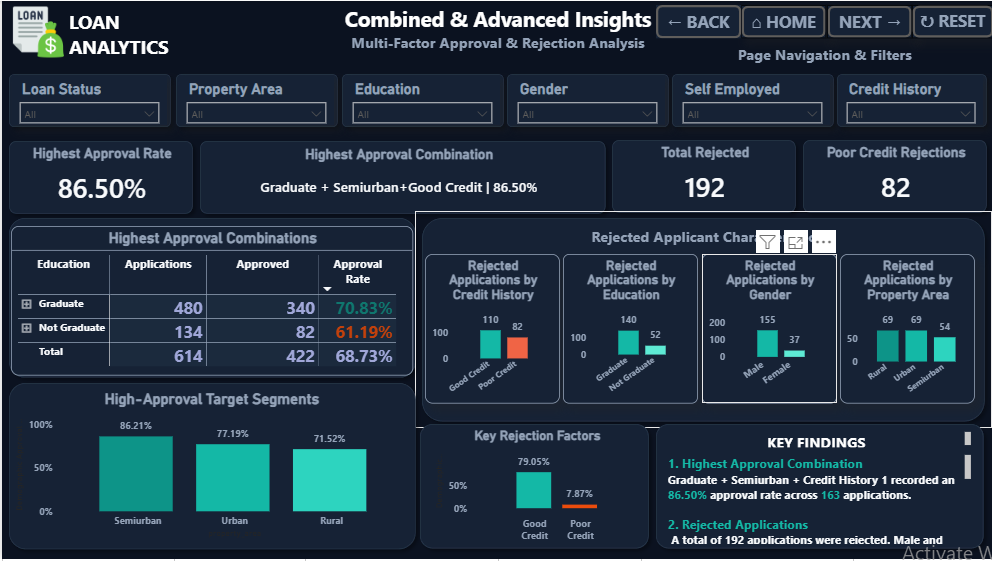

This screenshot's page, from the dashboard's own definition file:
{"tool":"powerbi","page":{"name":"Combined & Advanced Insights","canvas":[1280,720],"ordinal":5},"visuals":[{"type":"textbox","box":[0,0,1279.8,79.4],"z":0},{"type":"group","id":"g1","title":"Group 3","box":[0,85,226.8,86.5],"z":0,"group":"g7"},{"type":"group","id":"g2","title":"Group 7","box":[0.1,171.5,255.1,112],"z":0,"group":"g12"},{"type":"shape","box":[0,270.7,542.8,223.9],"z":0,"group":"g15"},{"type":"group","id":"g3","title":"Group 6","box":[532.9,270.7,744.1,280.6],"z":0,"group":"g17"},{"type":"shape","box":[532.9,270.7,744.1,280.6],"z":0,"group":"g3"},{"type":"shape","box":[0,483.3,542.8,232.4],"z":0,"group":"g18"},{"type":"shape","box":[530.1,537.2,313.2,178.6],"z":0,"group":"g19"},{"type":"shape","box":[834.8,537.2,440.8,178.6],"z":0,"group":"g20"},{"type":"group","id":"g4","title":"Group 6","box":[12.8,0,323.1,96.4],"z":1000},{"type":"group","id":"g5","title":"Group 3","box":[215.4,85,226.8,86.5],"z":1000,"group":"g7"},{"type":"group","id":"g6","title":"Group 1","box":[246.2,171.5,541.4,112],"z":1000,"group":"g12"},{"type":"textbox","box":[555.7,286.7,705.8,35.4],"z":1000,"group":"g17"},{"type":"pivotTable","title":"Highest Approval Combinations","fields":{"Values":["loan_data.total_applications","loan_data.approved_applicants","loan_data.approval_rate"],"Rows":["loan_data.education","loan_data.property_area","loan_data.credit_history"]},"box":[11.3,290.6,518.7,193],"z":1000,"group":"g15"},{"type":"clusteredColumnChart","title":"High-Approval Target Segments","fields":{"Category":["loan_data.property_area"],"Y":["loan_data.Demographic Approval Rate"]},"box":[11.3,501.8,518.7,195.5],"z":1000,"group":"g18"},{"type":"group","id":"g7","title":"Group 4","box":[0,85,1279.8,86.5],"z":2000},{"type":"group","id":"g8","title":"Group 3","box":[429.4,85,226.8,86.5],"z":2000,"group":"g7"},{"type":"group","id":"g9","title":"Group 2","box":[778.7,170.1,255.1,112],"z":2000,"group":"g12"},{"type":"group","id":"g10","title":"Group 10","box":[545.8,326.4,710.1,192.8],"z":2000,"group":"g17"},{"type":"group","id":"g11","title":"Group 3","box":[642,85,226.8,86.5],"z":3000,"group":"g7"},{"type":"group","id":"g12","title":"Group 8","box":[0.1,170.1,1279.8,113.4],"z":3000},{"type":"group","id":"g13","title":"Group 5","box":[1024.8,170.1,255.1,112],"z":3000,"group":"g12"},{"type":"shape","box":[0,85,226.8,86.5],"z":4000,"group":"g1"},{"type":"shape","box":[215.4,85,226.8,86.5],"z":4000,"group":"g5"},{"type":"shape","box":[429.4,85,226.8,86.5],"z":4000,"group":"g8"},{"type":"shape","box":[642,85,226.8,86.5],"z":4000,"group":"g11"},{"type":"group","id":"g14","title":"Group 3","box":[856.1,85,226.8,86.5],"z":4000,"group":"g7"},{"type":"shape","box":[856.1,85,226.8,86.5],"z":4000,"group":"g14"},{"type":"shape","box":[1068.7,85,211.2,86.5],"z":4000,"group":"g16"},{"type":"shape","box":[778.7,170.1,255.1,112],"z":4000,"group":"g9"},{"type":"shape","box":[1024.8,170.1,255.1,112],"z":4000,"group":"g13"},{"type":"shape","box":[0.1,171.5,255.1,112],"z":4000,"group":"g2"},{"type":"shape","box":[246.2,171.5,541.4,112],"z":4000,"group":"g6"},{"type":"group","id":"g15","title":"Group 6","box":[0,270.7,542.8,223.9],"z":4000},{"type":"group","id":"g16","title":"Group 3","box":[1068.7,85,211.2,86.5],"z":5000,"group":"g7"},{"type":"cardVisual","title":"Total Rejected","fields":{"Data":["loan_data.rejected_applications"]},"box":[796.2,184.5,223,86.5],"z":5000,"group":"g9"},{"type":"cardVisual","title":"Poor Credit Rejections","fields":{"Data":["loan_data.Poor Credit Rejections"]},"box":[1042.3,184.5,223,86.5],"z":5000,"group":"g13"},{"type":"cardVisual","title":"Highest Approval Rate","fields":{"Data":["loan_data.Highest Approval Rate"]},"box":[17.6,185.9,223,86.5],"z":5000,"group":"g2"},{"type":"cardVisual","title":"Highest Approval Combination","fields":{"Data":["loan_data.Highest Approval Combination"]},"box":[246.2,187.1,532.1,79.4],"z":5000,"group":"g6"},{"type":"group","id":"g17","title":"Group 9","box":[532.9,270.7,744.1,280.6],"z":5000},{"type":"clusteredColumnChart","title":"Rejected Applications by Credit History","fields":{"Category":["loan_data.credit_history"],"Y":["loan_data.rejected_applications"]},"box":[545.8,326.4,174.3,192.8],"z":6000,"group":"g10"},{"type":"group","id":"g18","title":"Group 6","box":[0,483.3,542.8,232.4],"z":6000},{"type":"clusteredColumnChart","title":"Rejected Applications by Education","fields":{"Category":["loan_data.education"],"Y":["loan_data.rejected_applications"]},"box":[724.4,326.4,174.3,192.8],"z":7000,"group":"g10"},{"type":"group","id":"g19","title":"Group 6","box":[530.1,537.2,313.2,178.6],"z":7000},{"type":"clusteredColumnChart","title":"Rejected Applications by Gender","fields":{"Category":["loan_data.gender"],"Y":["loan_data.rejected_applications"]},"box":[903,326.4,174.3,192.8],"z":8000,"group":"g10"},{"type":"clusteredColumnChart","title":"Key Rejection Factors","fields":{"Category":["loan_data.credit_history"],"Y":["loan_data.Demographic Approval Rate"]},"box":[554.2,551.3,275,154.5],"z":8000},{"type":"slicer","fields":{"Values":["loan_data.loan_status"]},"box":[12.8,96.7,199.8,63],"z":8003,"group":"g1"},{"type":"slicer","fields":{"Values":["loan_data.property_area"]},"box":[228.2,96.7,199.8,63],"z":8003,"group":"g5"},{"type":"slicer","fields":{"Values":["loan_data.education"]},"box":[442.2,96.7,199.8,63],"z":8003,"group":"g8"},{"type":"slicer","fields":{"Values":["loan_data.gender"]},"box":[654.8,96.7,199.8,63],"z":8003,"group":"g11"},{"type":"slicer","fields":{"Values":["loan_data.self_employed"]},"box":[868.9,96.7,199.8,63],"z":8003,"group":"g14"},{"type":"slicer","fields":{"Values":["loan_data.credit_history"]},"box":[1080.6,96.7,186.1,63],"z":8003,"group":"g16"},{"type":"textbox","box":[80.8,5.7,255.1,90.7],"z":9000,"group":"g4"},{"type":"clusteredColumnChart","title":"Rejected Applications by Property Area","fields":{"Category":["loan_data.property_area"],"Y":["loan_data.rejected_applications"]},"box":[1081.5,326.4,174.3,192.8],"z":9000,"group":"g10"},{"type":"group","id":"g20","title":"Group 6","box":[834.8,537.2,440.8,178.6],"z":9000},{"type":"textbox","box":[854.6,551.3,401.1,29.8],"z":10000},{"type":"textbox","box":[854.6,581.1,401.1,124.7],"z":11000},{"type":"actionButton","box":[953.9,5.7,110.1,42.9],"z":12000},{"type":"actionButton","box":[843.8,5.7,110.1,42.9],"z":13000},{"type":"actionButton","box":[1064,5.7,110.1,42.9],"z":14000},{"type":"actionButton","box":[1174.2,5.7,105.8,42.9],"z":15000},{"type":"textbox","box":[844.3,51.4,435.7,44.3],"z":16000},{"type":"image","box":[12.8,0,68,79.4],"z":17000,"group":"g4"}]}

Visuals, with their boxes in screenshot pixels (x1, y1, x2, y2), scaled from the page's 1280x720 canvas onto the 992x561 screenshot:
textbox: bbox(0, 0, 991, 62)
"Group 3" group: bbox(0, 66, 176, 134)
"Group 7" group: bbox(0, 134, 198, 221)
shape: bbox(0, 211, 421, 385)
"Group 6" group: bbox(413, 211, 990, 430)
shape: bbox(413, 211, 990, 430)
shape: bbox(0, 377, 421, 558)
shape: bbox(411, 419, 654, 558)
shape: bbox(647, 419, 989, 558)
"Group 6" group: bbox(10, 0, 260, 75)
"Group 3" group: bbox(167, 66, 343, 134)
"Group 1" group: bbox(191, 134, 610, 221)
textbox: bbox(431, 223, 978, 251)
"Highest Approval Combinations" pivotTable: bbox(9, 226, 411, 377)
"High-Approval Target Segments" clusteredColumnChart: bbox(9, 391, 411, 543)
"Group 4" group: bbox(0, 66, 991, 134)
"Group 3" group: bbox(333, 66, 509, 134)
"Group 2" group: bbox(603, 133, 801, 220)
"Group 10" group: bbox(423, 254, 973, 405)
"Group 3" group: bbox(498, 66, 673, 134)
"Group 8" group: bbox(0, 133, 991, 221)
"Group 5" group: bbox(794, 133, 991, 220)
shape: bbox(0, 66, 176, 134)
shape: bbox(167, 66, 343, 134)
shape: bbox(333, 66, 509, 134)
shape: bbox(498, 66, 673, 134)
"Group 3" group: bbox(663, 66, 839, 134)
shape: bbox(663, 66, 839, 134)
shape: bbox(828, 66, 991, 134)
shape: bbox(603, 133, 801, 220)
shape: bbox(794, 133, 991, 220)
shape: bbox(0, 134, 198, 221)
shape: bbox(191, 134, 610, 221)
"Group 6" group: bbox(0, 211, 421, 385)
"Group 3" group: bbox(828, 66, 991, 134)
"Total Rejected" cardVisual: bbox(617, 144, 790, 211)
"Poor Credit Rejections" cardVisual: bbox(808, 144, 981, 211)
"Highest Approval Rate" cardVisual: bbox(14, 145, 186, 212)
"Highest Approval Combination" cardVisual: bbox(191, 146, 603, 208)
"Group 9" group: bbox(413, 211, 990, 430)
"Rejected Applications by Credit History" clusteredColumnChart: bbox(423, 254, 558, 405)
"Group 6" group: bbox(0, 377, 421, 558)
"Rejected Applications by Education" clusteredColumnChart: bbox(561, 254, 696, 405)
"Group 6" group: bbox(411, 419, 654, 558)
"Rejected Applications by Gender" clusteredColumnChart: bbox(700, 254, 835, 405)
"Key Rejection Factors" clusteredColumnChart: bbox(430, 430, 643, 550)
slicer - loan_data.loan_status: bbox(10, 75, 165, 124)
slicer - loan_data.property_area: bbox(177, 75, 332, 124)
slicer - loan_data.education: bbox(343, 75, 498, 124)
slicer - loan_data.gender: bbox(507, 75, 662, 124)
slicer - loan_data.self_employed: bbox(673, 75, 828, 124)
slicer - loan_data.credit_history: bbox(837, 75, 982, 124)
textbox: bbox(63, 4, 260, 75)
"Rejected Applications by Property Area" clusteredColumnChart: bbox(838, 254, 973, 405)
"Group 6" group: bbox(647, 419, 989, 558)
textbox: bbox(662, 430, 973, 453)
textbox: bbox(662, 453, 973, 550)
actionButton: bbox(739, 4, 825, 38)
actionButton: bbox(654, 4, 739, 38)
actionButton: bbox(825, 4, 910, 38)
actionButton: bbox(910, 4, 991, 38)
textbox: bbox(654, 40, 991, 75)
image: bbox(10, 0, 63, 62)
